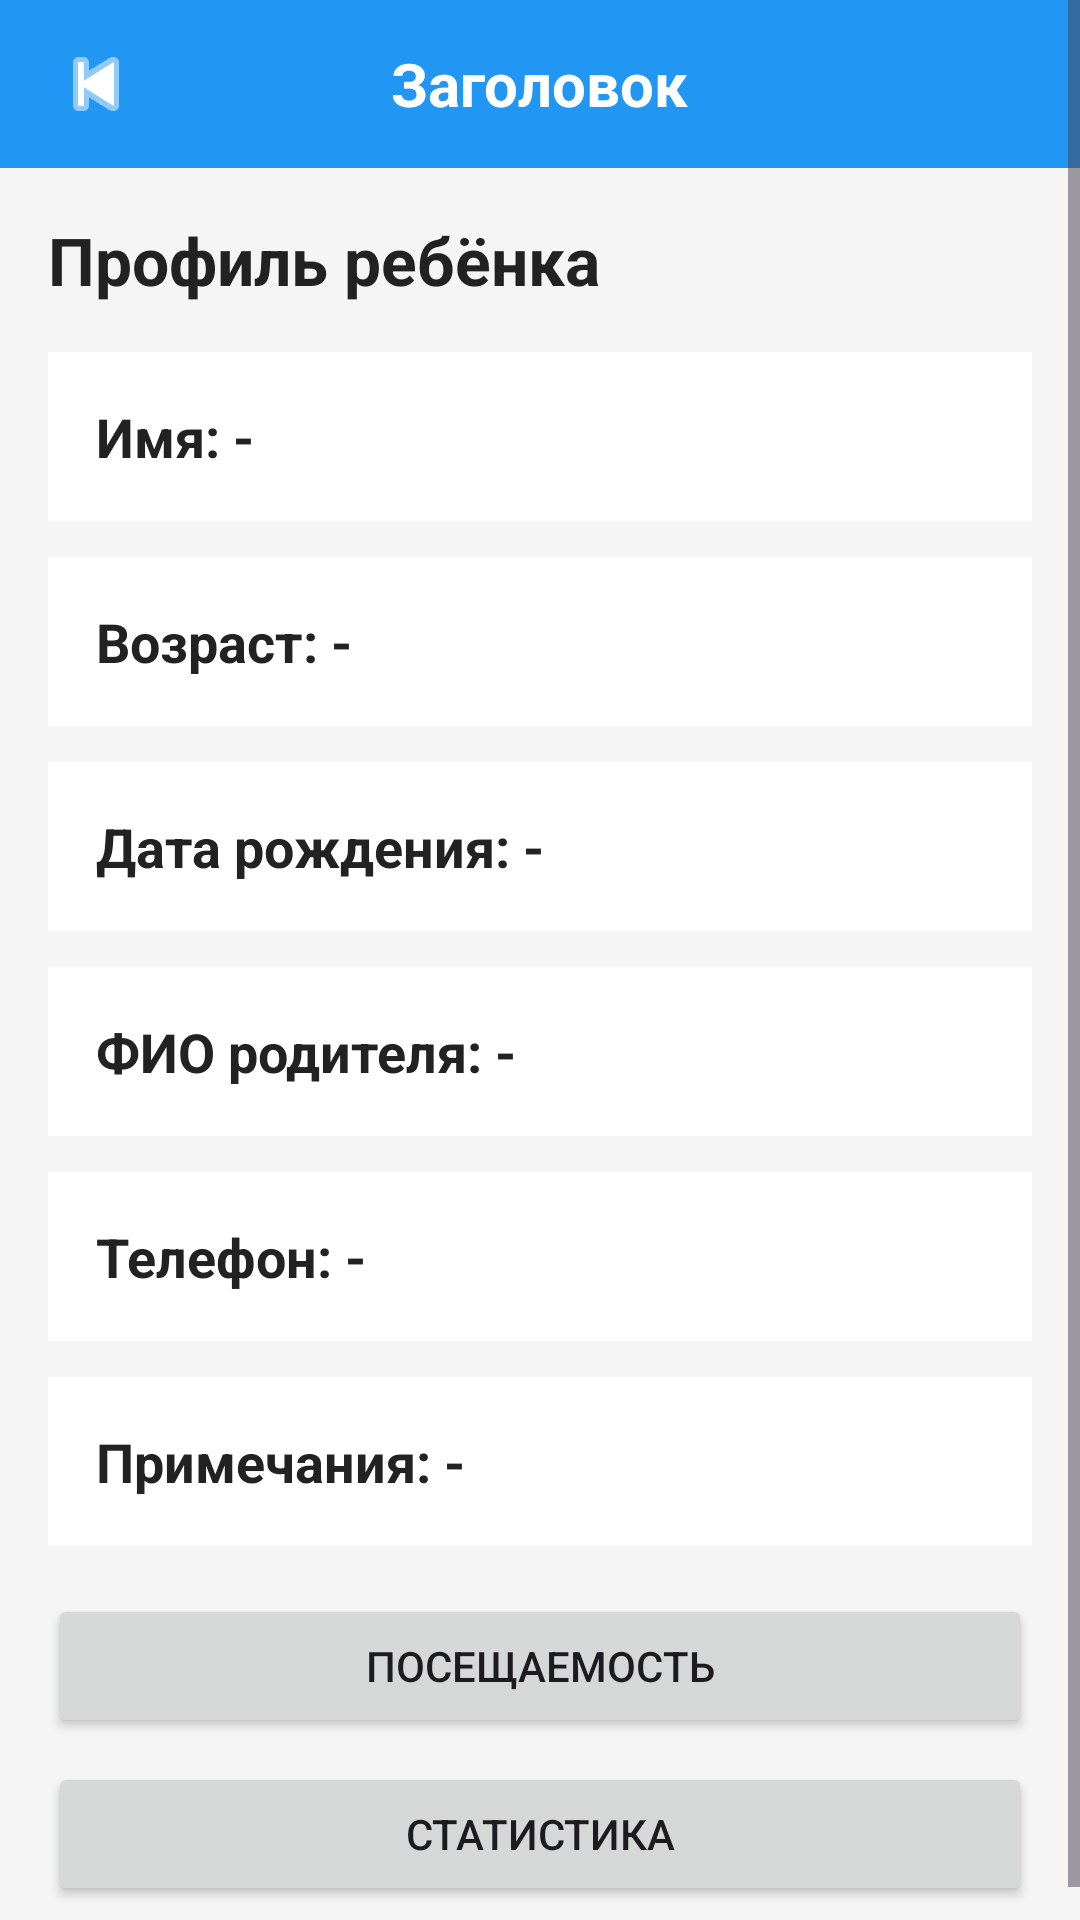

Named icons in this screenshot (1080px x 1920px) and their bounding boxes, [x1=x1, y1=y1, x2=x2, y2=y2]:
Назад: [x1=73, y1=57, x2=119, y2=111]
